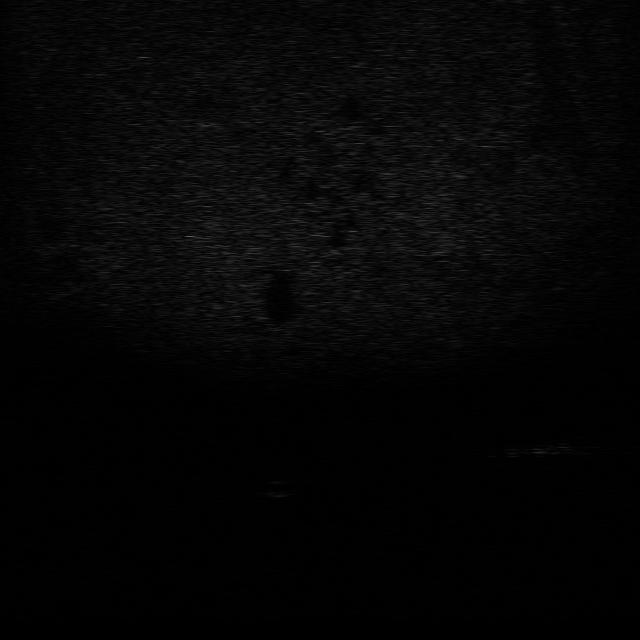ball: (256, 476, 302, 501)
human body: (477, 435, 605, 462)
